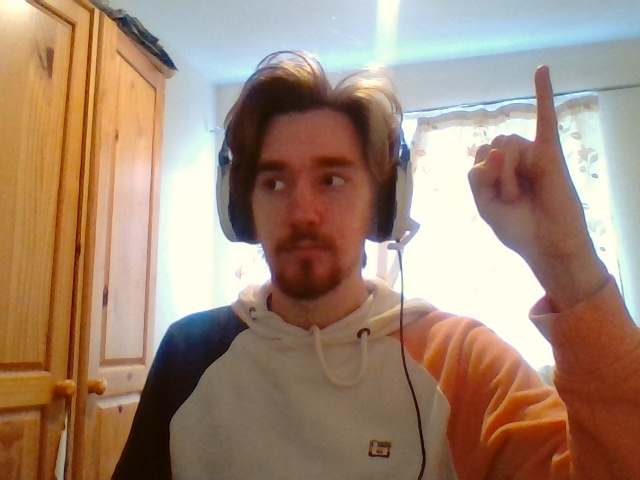bad: (468, 65, 567, 251)
